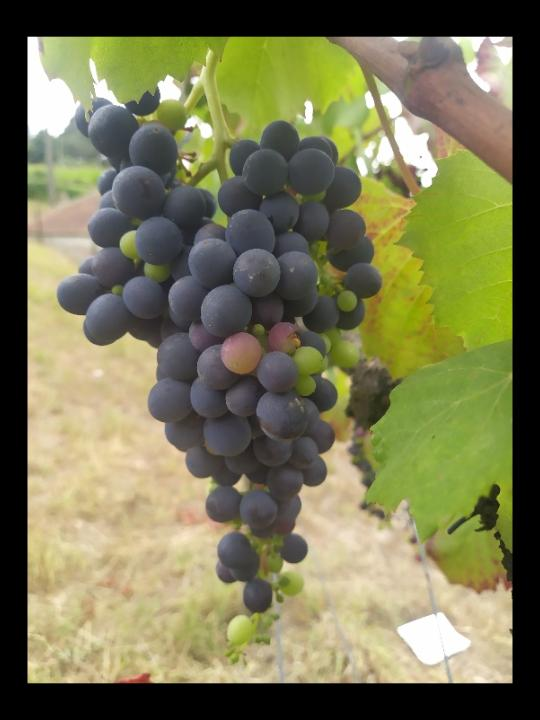grape: (51, 82, 382, 672)
